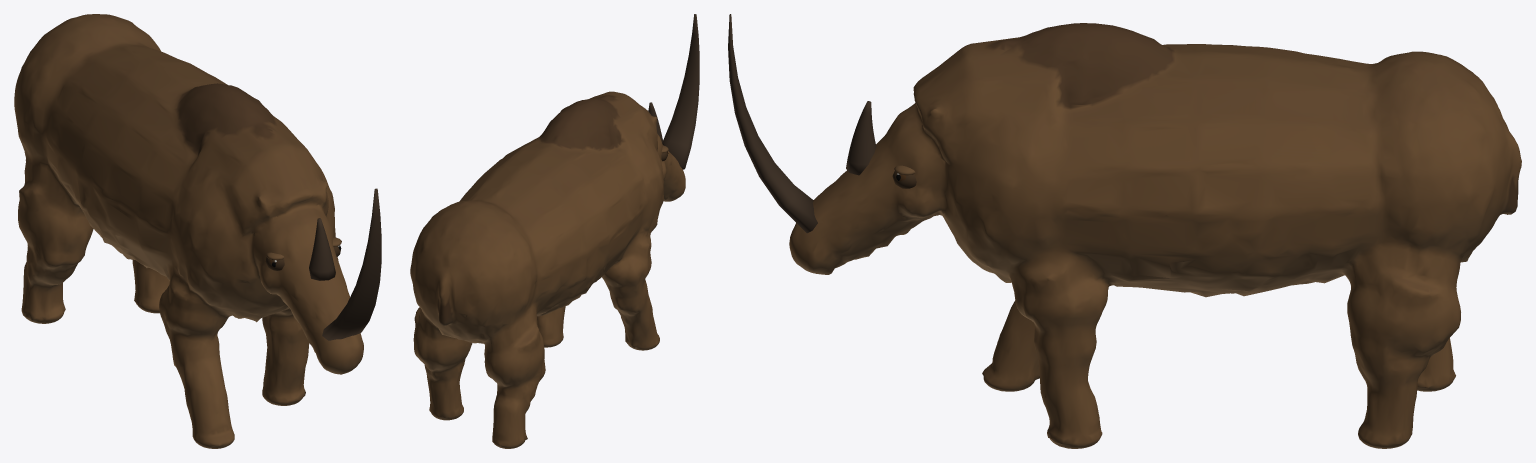
Rendered from CoelodontaAntiquitatis.fbx.
3 views of the same model, side by side, from view 1: azimuth 30°, elevation 25°; view 2: azimuth 150°, elevation 25°; view 3: azimuth 270°, elevation 25° (orthographic). The views are drawn at different scales.
Parts seen in each view (by area): view 1: CoelodontaAntiquitatis; view 2: CoelodontaAntiquitatis; view 3: CoelodontaAntiquitatis.
Boxes of the visible parts, x1=… form: CoelodontaAntiquitatis: x1=14, y1=14, x2=381, y2=448; CoelodontaAntiquitatis: x1=410, y1=14, x2=699, y2=448; CoelodontaAntiquitatis: x1=728, y1=14, x2=1521, y2=448.
Size of the model in its own units: 0.6355 by 1.21 by 2.18.
